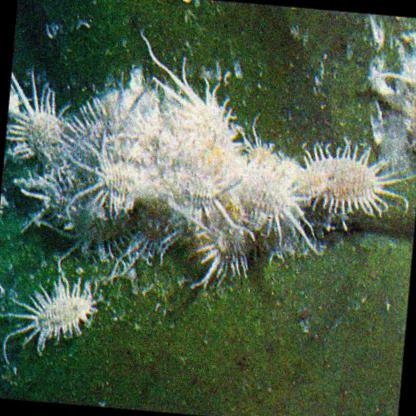mealy bug: (160, 100, 243, 182), (237, 169, 312, 254), (14, 283, 92, 350), (74, 148, 151, 214), (301, 154, 377, 205), (14, 110, 66, 160)
